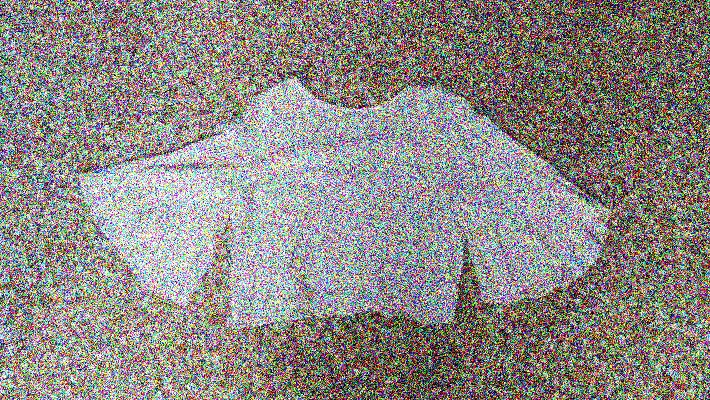Blouse: (54, 52, 610, 350)
